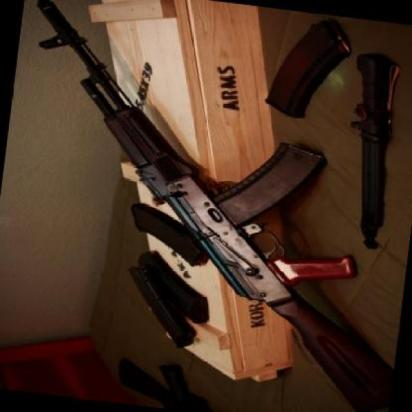Gun: (36, 1, 412, 411)
